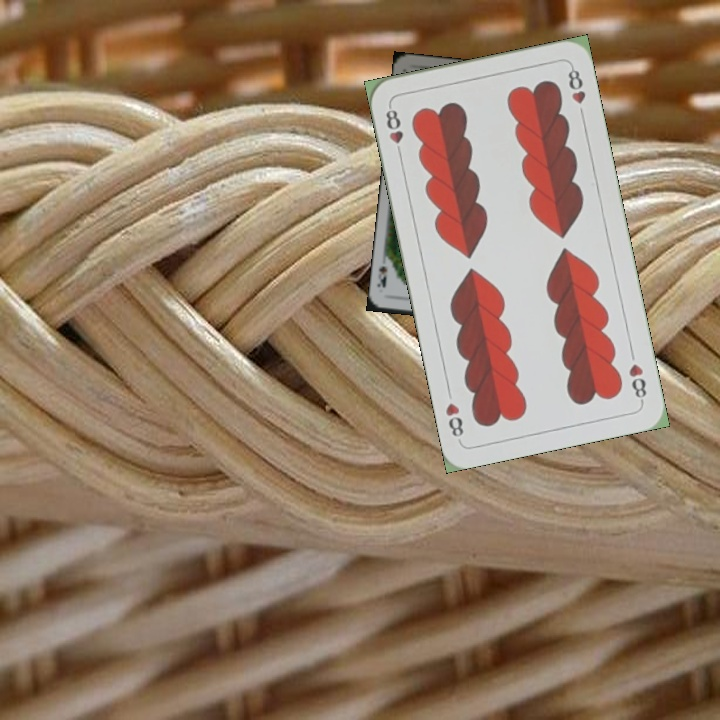H8: (382, 101, 406, 160), (624, 359, 649, 405)
